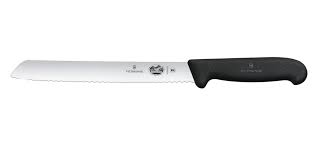knife: (10, 56, 308, 89)
